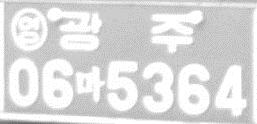0: (7, 56, 40, 109)
3: (140, 60, 175, 113)
4: (213, 64, 248, 117)
5: (105, 59, 139, 112)
6: (176, 62, 210, 117), (39, 57, 74, 110)
광주_D: (57, 9, 194, 54)
마: (74, 65, 105, 103)
영: (9, 7, 48, 53)
